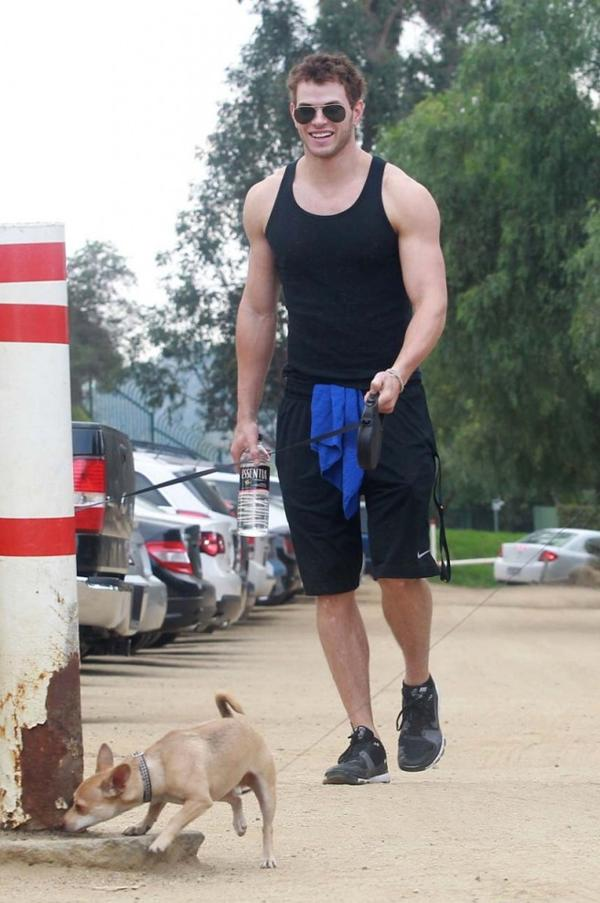person: (232, 55, 449, 788)
